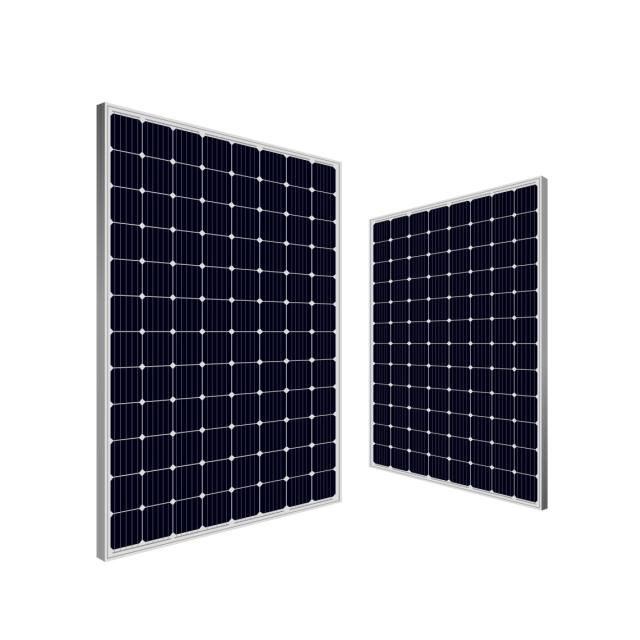clean-solar-panel: (110, 112, 339, 551), (371, 185, 540, 505)
